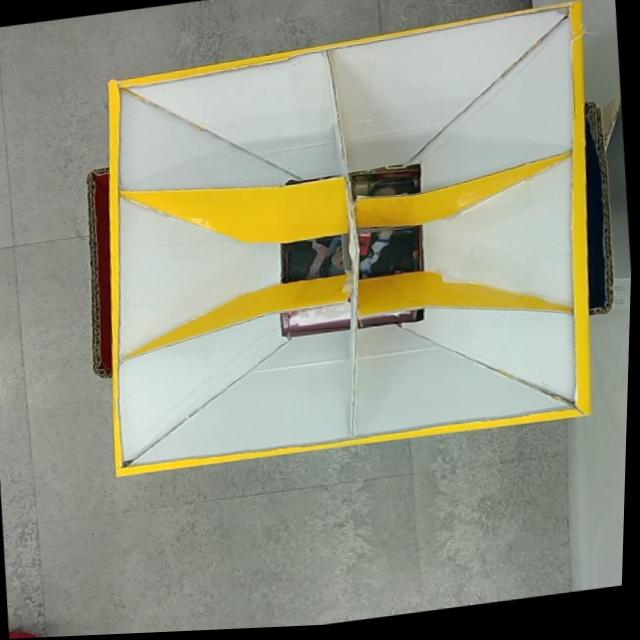box: (64, 0, 632, 484)
